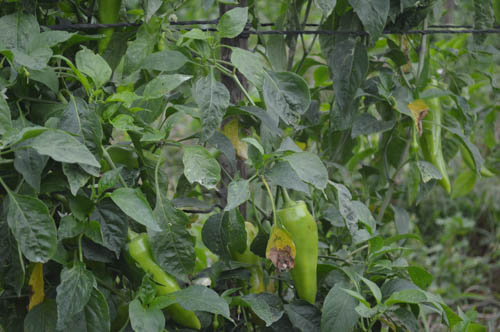ChiliPepper: (131, 238, 199, 324), (282, 202, 324, 307), (420, 88, 455, 194), (238, 226, 267, 297)
